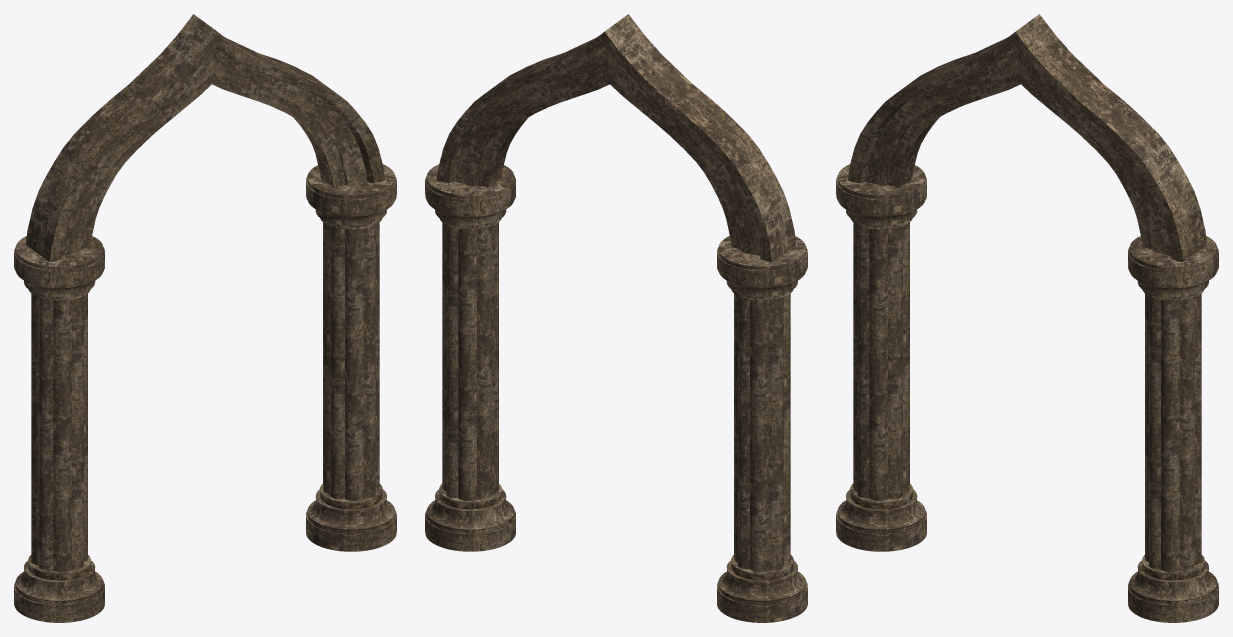
Rendered from materials_5_gate_13.fbx.
3 renders of one model, left to right at view 1: azimuth 30°, elevation 25°; view 2: azimuth 150°, elevation 25°; view 3: azimuth 330°, elevation 25°, orthographic.
Parts seen in each view (by area): view 1: materials_5_gate_13; view 2: materials_5_gate_13; view 3: materials_5_gate_13.
Boxes of the visible parts, x1=… form: materials_5_gate_13: x1=14, y1=14, x2=396, y2=622; materials_5_gate_13: x1=425, y1=14, x2=807, y2=622; materials_5_gate_13: x1=836, y1=14, x2=1218, y2=622.
Bounding box in the file's own units: 155 × 218 × 33.04.
